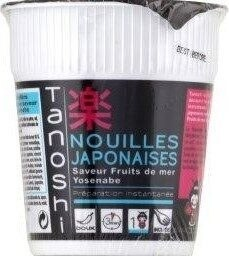Nouilles Japonaise saveur crevette: (11, 13, 218, 243)
